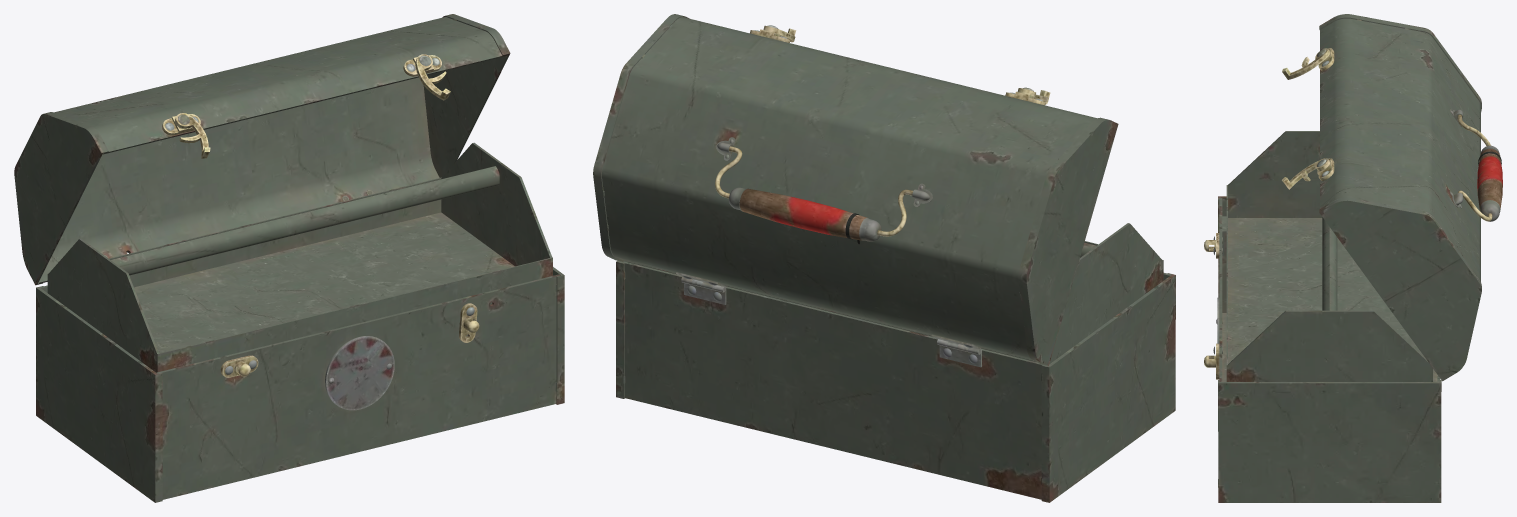
File: metal_toolbox.glb
3 views of the same model, side by side, from view 1: azimuth 30°, elevation 25°; view 2: azimuth 150°, elevation 25°; view 3: azimuth 270°, elevation 25° (orthographic). The views are drawn at different scales.
Parts seen in each view (by area): view 1: metal_toolbox; view 2: metal_toolbox; view 3: metal_toolbox.
Part boxes in pixels (x1,y1,x2,y2): metal_toolbox: [14, 14, 564, 502]; metal_toolbox: [593, 14, 1175, 502]; metal_toolbox: [1204, 14, 1502, 502].
Size of the model in its own units: 0.4 by 0.3047 by 0.2705.
1 material, 1 textured.
